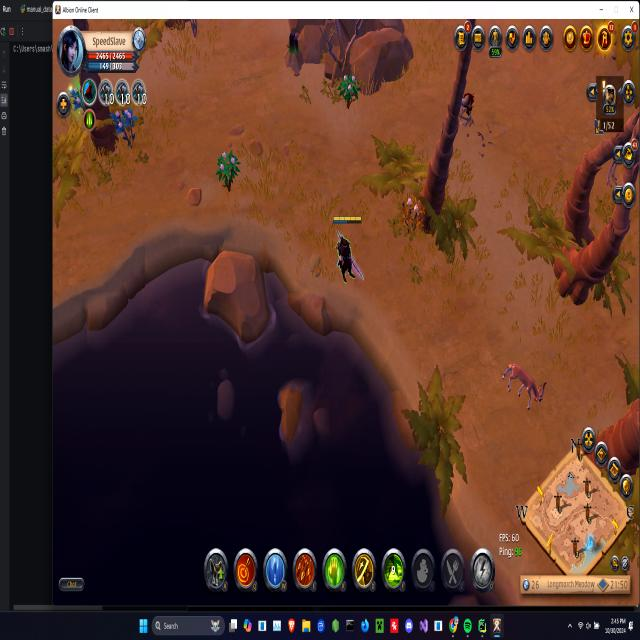hide: (400, 190, 427, 237), (216, 145, 240, 192), (112, 102, 138, 144), (338, 71, 360, 110)
ore: (500, 358, 548, 415), (457, 84, 478, 130)
player: (282, 26, 304, 74)
red: (330, 210, 364, 290)
